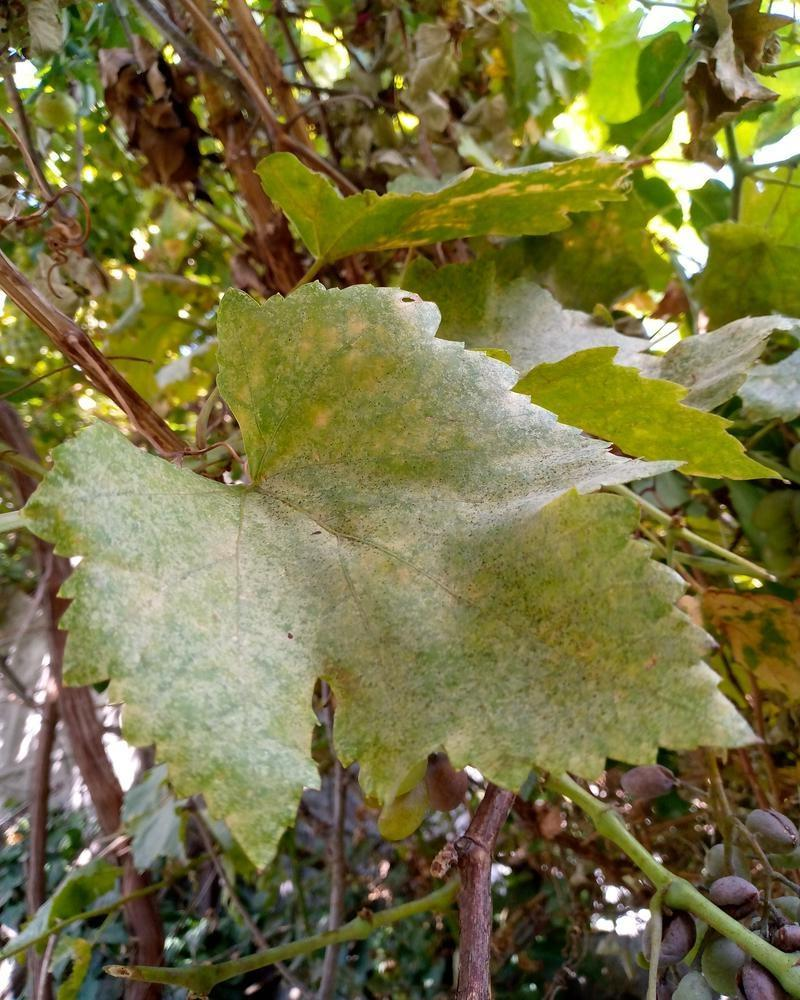Powdery-Mildew: (512, 491, 734, 769), (168, 552, 286, 714), (122, 643, 225, 788), (69, 432, 188, 554), (234, 725, 327, 866), (229, 356, 350, 462), (347, 504, 463, 612), (298, 311, 361, 374), (405, 357, 468, 420), (91, 570, 154, 633)
